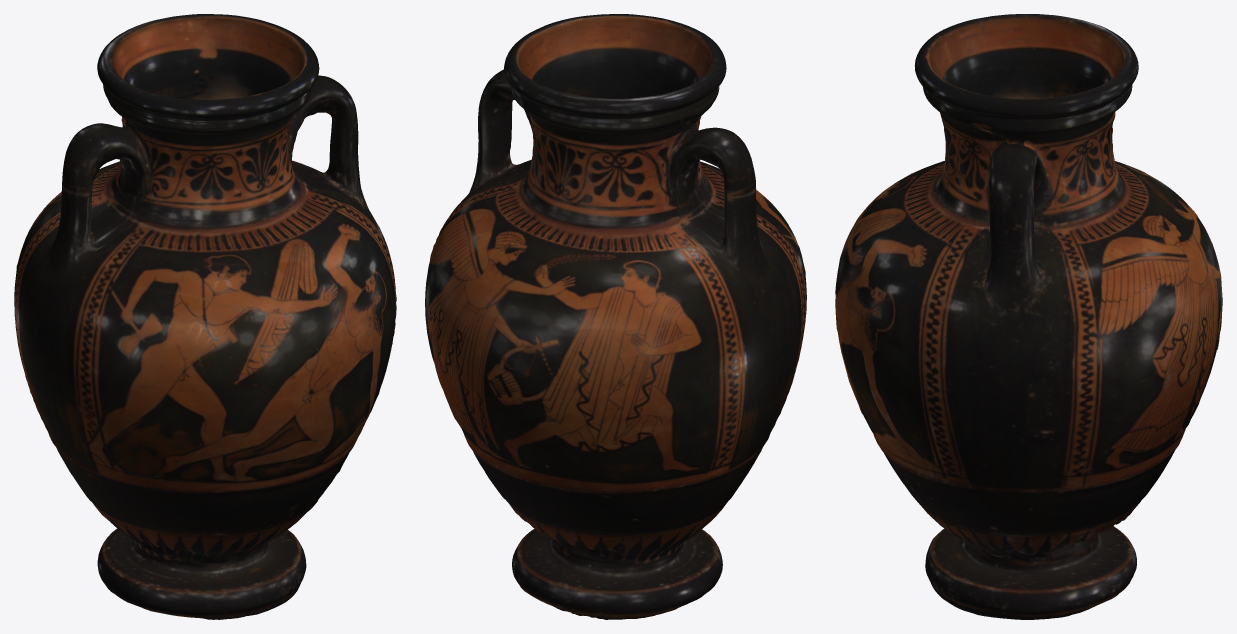
The model's file is rf-fitz-theseus.glb.
3 views of the same model, side by side, from view 1: azimuth 30°, elevation 25°; view 2: azimuth 150°, elevation 25°; view 3: azimuth 270°, elevation 25° (orthographic).
Visible parts, largest first — view 1: Object_2; view 2: Object_2; view 3: Object_2.
Part boxes in pixels (x1,y1,x2,y2): Object_2: (14, 14, 396, 619); Object_2: (425, 14, 806, 619); Object_2: (835, 14, 1222, 619).
Size of the model in its own units: 1.37 by 2.1 by 1.38.
1 material, 1 textured.
